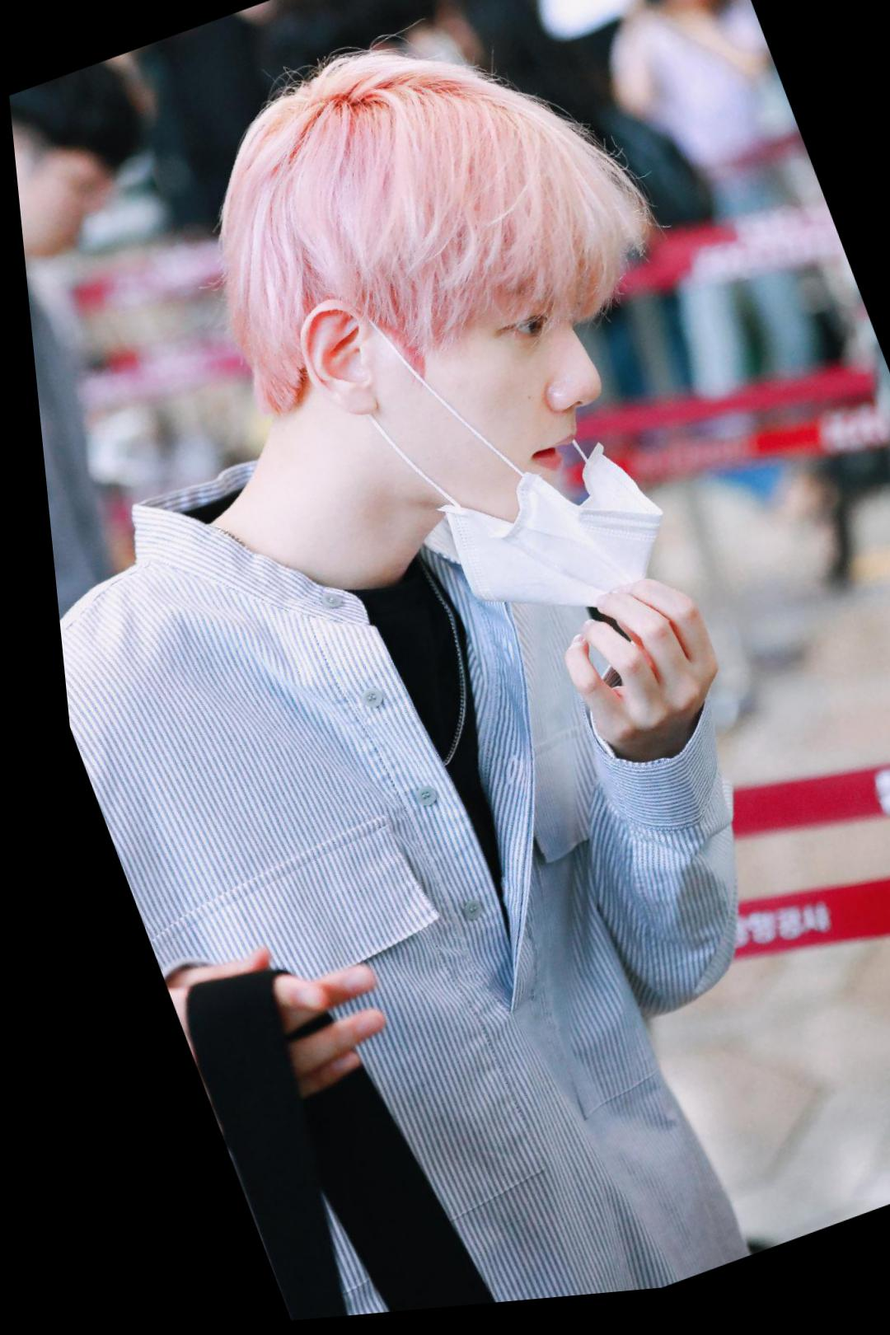NONE: (11, 121, 126, 273)
WRONG: (377, 237, 653, 575)
